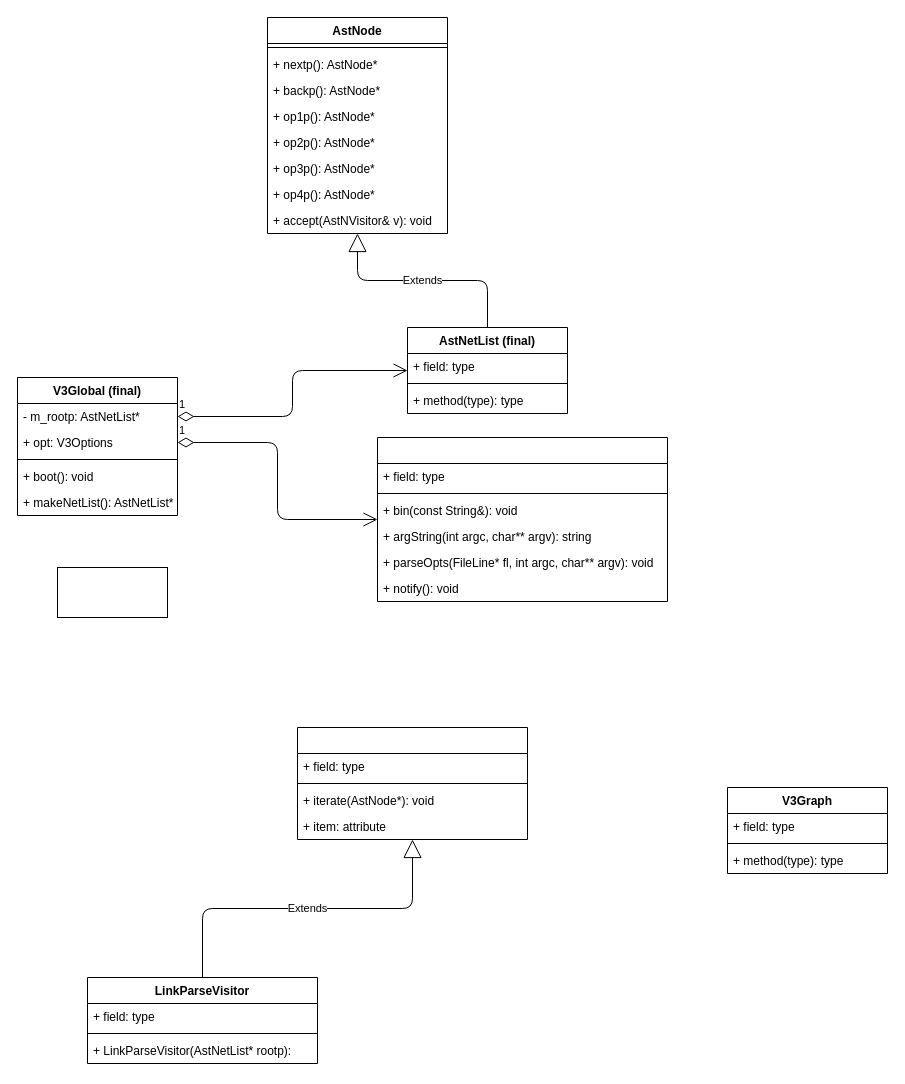
Some shapes in this 905 by 1084 pixel diagram are drawn without their labels. Here are the shapes that lost their labels. From the top down, the box of each, then its label:
(376, 436, 668, 602): V3Options (final)
(56, 566, 168, 618): v3Global
(296, 726, 528, 840): AstNVisitor
